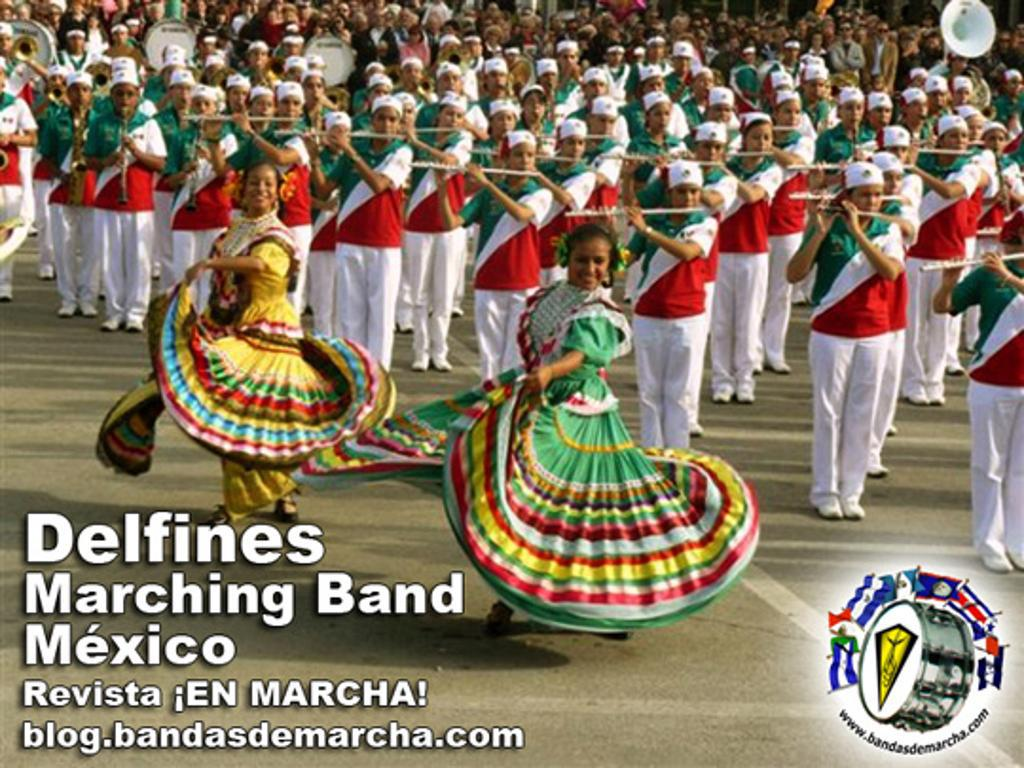face: (571, 245, 610, 290), (246, 170, 277, 210), (851, 184, 883, 219), (746, 125, 773, 160), (509, 144, 535, 177), (672, 184, 700, 214), (112, 84, 138, 115), (373, 111, 399, 142), (942, 128, 968, 157), (439, 107, 463, 136), (879, 170, 903, 198), (778, 105, 801, 134), (591, 114, 616, 140), (650, 103, 672, 132), (697, 141, 722, 166), (841, 101, 864, 128), (984, 133, 1007, 160), (963, 119, 984, 147), (562, 136, 585, 161), (69, 83, 91, 108), (280, 97, 302, 122), (172, 83, 193, 109), (163, 68, 185, 92), (254, 97, 275, 122), (524, 96, 544, 122), (193, 99, 217, 120), (710, 103, 731, 127), (231, 88, 251, 113), (871, 105, 891, 130), (493, 116, 515, 138), (907, 100, 928, 123), (886, 144, 908, 165), (586, 80, 606, 103), (397, 105, 414, 131), (370, 87, 390, 109), (441, 75, 461, 97), (805, 80, 825, 102), (644, 79, 665, 99), (695, 76, 714, 98), (489, 72, 507, 94), (305, 80, 324, 100), (250, 50, 268, 70), (285, 68, 304, 86), (560, 52, 577, 72), (208, 66, 224, 86), (930, 93, 946, 113), (331, 127, 348, 144), (284, 44, 302, 60), (541, 71, 556, 90), (68, 34, 84, 51), (405, 69, 421, 86), (51, 73, 66, 91), (676, 55, 691, 73), (1007, 77, 1022, 95), (952, 55, 967, 72), (901, 34, 915, 52), (650, 44, 665, 60), (675, 19, 689, 36), (445, 25, 459, 39), (1000, 33, 1012, 49), (1, 35, 13, 51), (113, 32, 127, 45), (609, 51, 623, 64), (957, 90, 970, 104), (729, 37, 741, 52), (372, 13, 385, 26), (873, 77, 886, 90), (470, 43, 482, 57), (922, 15, 934, 29), (428, 17, 439, 32), (878, 26, 889, 41), (18, 9, 30, 22), (928, 40, 940, 53), (607, 30, 620, 42), (49, 10, 60, 24), (824, 23, 835, 37), (917, 77, 928, 91), (201, 43, 213, 55), (786, 49, 798, 61), (487, 5, 498, 18), (856, 33, 867, 46), (779, 27, 790, 40), (628, 14, 639, 27), (749, 28, 759, 42), (338, 6, 349, 18), (488, 32, 499, 44), (745, 53, 756, 65), (841, 27, 852, 39), (716, 13, 727, 25), (696, 36, 706, 49), (736, 18, 745, 32), (334, 19, 344, 31), (400, 13, 410, 25), (718, 28, 728, 40), (797, 23, 807, 35), (268, 13, 278, 24), (522, 11, 532, 22), (197, 2, 206, 14), (569, 25, 578, 37), (636, 26, 645, 38), (410, 33, 420, 43), (553, 19, 563, 29), (814, 37, 823, 48), (1017, 26, 1024, 39), (275, 5, 285, 14), (650, 15, 658, 26), (74, 6, 83, 15), (129, 27, 138, 36), (217, 15, 226, 24), (285, 14, 294, 23), (702, 21, 710, 31), (90, 19, 98, 28)
